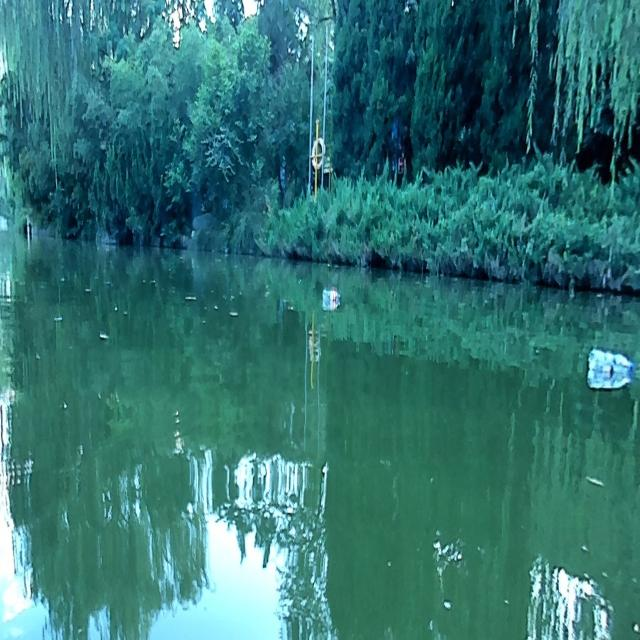bottle: (587, 345, 633, 376), (322, 287, 340, 302)
